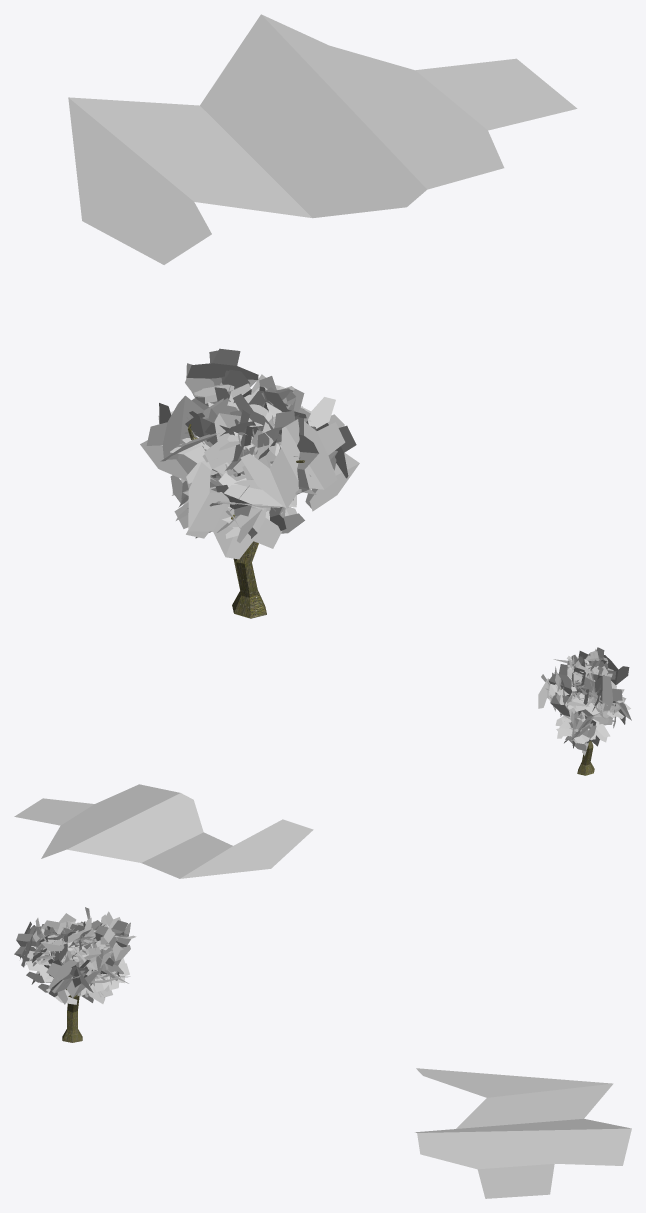
File: tree 1.fbx
3 views of the same model, one above another, from view 1: azimuth 30°, elevation 25°; view 2: azimuth 150°, elevation 25°; view 3: azimuth 270°, elevation 25° (orthographic). The views are drawn at different scales.
Visible parts, largest first — view 1: Tree Branch, Cube|Tree Branch|Dupli|55, Cube|Tree Branch|Dupli|141, Cube|Tree Branch|Dupli|68, Cube, Cube|Tree Branch|Dupli|167, Cube|Tree Branch|Dupli|74, Cube|Tree Branch|Dupli|153, Cube|Tree Branch|Dupli|188, Cube|Tree Branch|Dupli|90, Cube|Tree Branch|Dupli|44; view 2: Tree Branch, Cube|Tree Branch|Dupli|68, Cube|Tree Branch|Dupli|167, Cube|Tree Branch|Dupli|123, Cube, Cube|Tree Branch|Dupli|55; view 3: Tree Branch, Cube|Tree Branch|Dupli|87, Cube, Cube|Tree Branch|Dupli|167, Cube|Tree Branch|Dupli|31.
Part boxes in pixels (x1,y1,x2,y2): Tree Branch: (68,14,577,264); Cube|Tree Branch|Dupli|55: (240,419,345,508); Cube|Tree Branch|Dupli|141: (188,462,282,559); Cube|Tree Branch|Dupli|68: (146,395,223,459); Cube: (188,424,304,618); Cube|Tree Branch|Dupli|167: (185,348,258,406); Cube|Tree Branch|Dupli|74: (140,398,237,483); Cube|Tree Branch|Dupli|153: (204,404,252,473); Cube|Tree Branch|Dupli|188: (227,385,335,428); Cube|Tree Branch|Dupli|90: (302,406,359,511); Cube|Tree Branch|Dupli|44: (224,419,311,507); Tree Branch: (14,784,313,878); Cube|Tree Branch|Dupli|68: (583,675,622,710); Cube|Tree Branch|Dupli|167: (548,664,572,716); Cube|Tree Branch|Dupli|123: (556,717,610,742); Cube: (561,688,594,775); Cube|Tree Branch|Dupli|55: (578,651,629,684); Tree Branch: (415,1068,631,1198); Cube|Tree Branch|Dupli|87: (46,959,98,997); Cube: (62,989,82,1042); Cube|Tree Branch|Dupli|167: (103,911,130,961); Cube|Tree Branch|Dupli|31: (95,920,130,966).
Size of the model in its own units: 4919 by 1395 by 6078.
